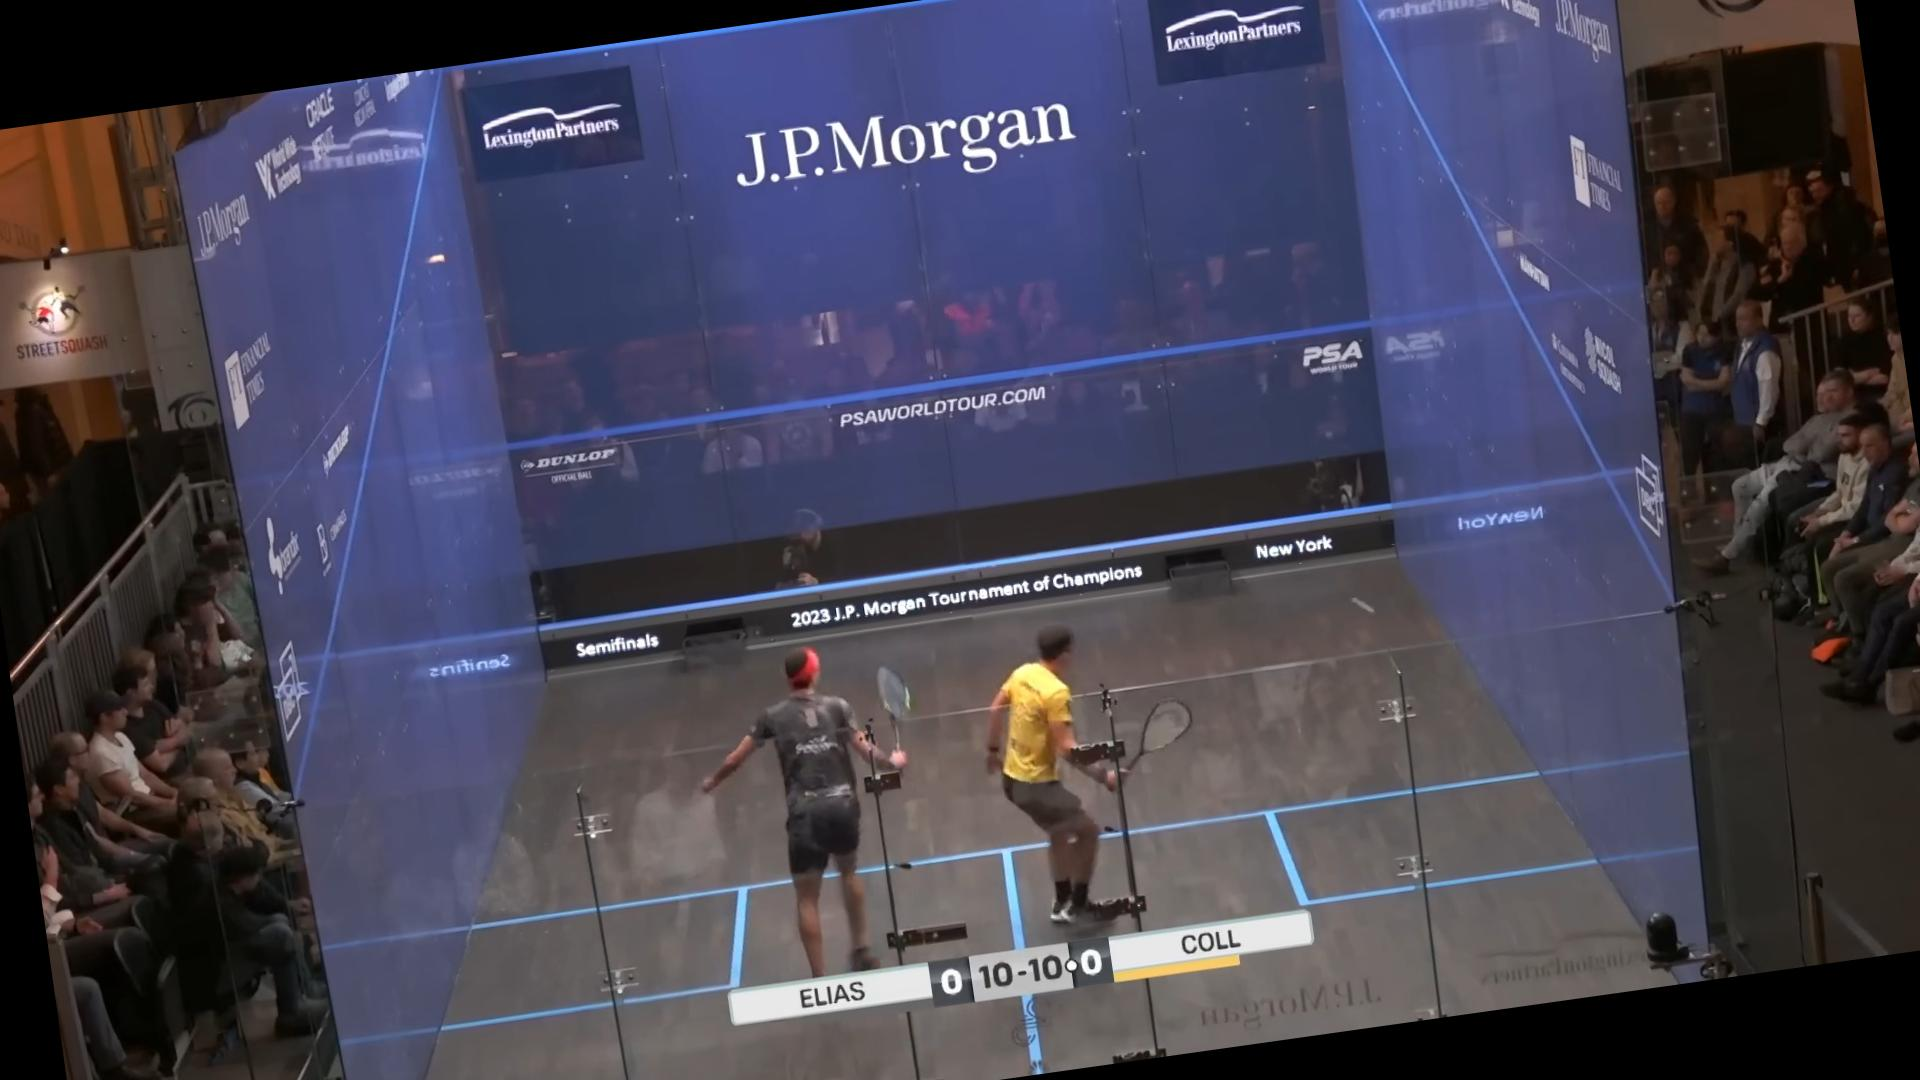Racket: (1105, 684, 1212, 771), (851, 638, 924, 746)
